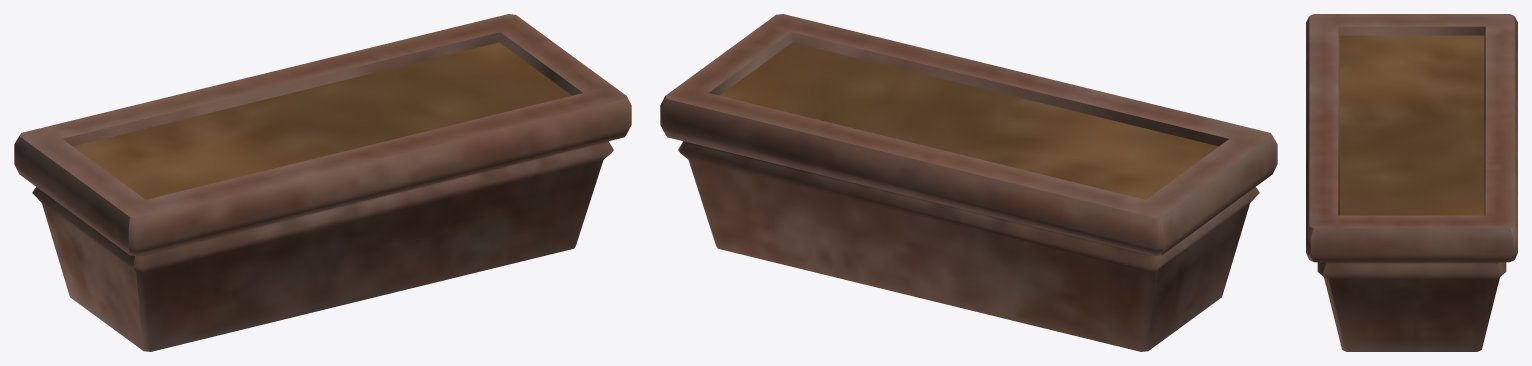
Rendered from flower_pot_long_ground_red.glb.
The picture shows the model from 3 angles, left to right: view 1: azimuth 30°, elevation 25°; view 2: azimuth 150°, elevation 25°; view 3: azimuth 270°, elevation 25°; orthographic projection. The views are drawn at different scales.
Parts seen in each view (by area): view 1: env_flowerpot_01_long_soil_01; view 2: env_flowerpot_01_long_soil_01; view 3: env_flowerpot_01_long_soil_01.
Boxes of the visible parts, x1,y1,x2,y2 form: env_flowerpot_01_long_soil_01: (14,14,631,351); env_flowerpot_01_long_soil_01: (660,14,1277,351); env_flowerpot_01_long_soil_01: (1306,14,1517,351).
Bounding box in the file's own units: 0.9263 × 0.2735 × 0.382.
Materials: 1 (1 with a texture image).
